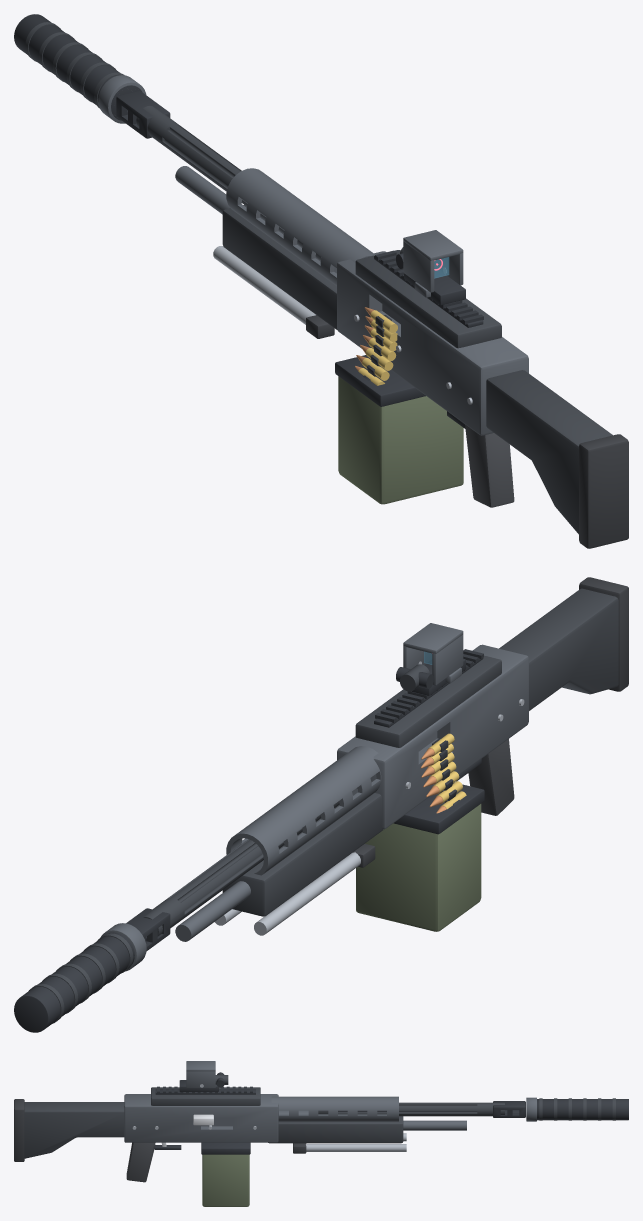
File: lmg_mk48.glb
The picture shows the model from 3 angles, top to bottom: view 1: azimuth 30°, elevation 25°; view 2: azimuth 150°, elevation 25°; view 3: azimuth 270°, elevation 25°; orthographic projection. The views are drawn at different scales.
Visible parts, largest first — view 1: AmmoBox, LMG_Receiver, ParaStock, HeatShield, StockButtpad, LowerHandguard, FeedTrayCover, SupBody, PistolGrip, MK48_Barrel, AmmoBoxLid, BipodLegL (+6 smaller); view 2: AmmoBox, LMG_Receiver, ParaStock, HeatShield, LowerHandguard, SupBody, FeedTrayCover, MK48_Barrel, PistolGrip, AmmoBoxLid, BipodLegL, StockButtpad (+5 smaller); view 3: LMG_Receiver, ParaStock, HeatShield, LowerHandguard, AmmoBox, MK48_Barrel, SupBody, FeedTrayCover, PistolGrip, BipodLegR, GasCylinder, StockButtpad (+8 smaller).
Boxes of the visible parts, x1,y1,x2,y2 form: AmmoBox: (338, 376, 463, 504); LMG_Receiver: (337, 251, 528, 435); ParaStock: (486, 370, 612, 534); HeatShield: (226, 168, 374, 285); StockButtpad: (579, 434, 628, 548); LowerHandguard: (222, 205, 337, 329); FeedTrayCover: (355, 250, 501, 348); SupBody: (14, 14, 141, 120); PistolGrip: (465, 424, 514, 507); MK48_Barrel: (136, 106, 321, 260); AmmoBoxLid: (335, 355, 425, 406); BipodLegL: (213, 246, 315, 324); AmmoBox: (356, 804, 481, 931); LMG_Receiver: (337, 644, 528, 829); ParaStock: (499, 588, 618, 710); HeatShield: (226, 746, 381, 875); LowerHandguard: (222, 788, 384, 916); SupBody: (14, 932, 134, 1032); FeedTrayCover: (355, 655, 501, 747); MK48_Barrel: (143, 801, 339, 936); PistolGrip: (468, 739, 514, 815); AmmoBoxLid: (393, 782, 484, 834); BipodLegL: (254, 852, 360, 935); StockButtpad: (579, 577, 628, 691); LMG_Receiver: (124, 1094, 278, 1142); ParaStock: (24, 1102, 124, 1158); HeatShield: (271, 1096, 398, 1121); LowerHandguard: (268, 1116, 403, 1143); AmmoBox: (202, 1154, 249, 1206); MK48_Barrel: (318, 1102, 504, 1116); SupBody: (537, 1099, 628, 1120); FeedTrayCover: (151, 1087, 260, 1105); PistolGrip: (126, 1142, 155, 1182); BipodLegR: (306, 1144, 406, 1151); GasCylinder: (403, 1120, 466, 1130); StockButtpad: (14, 1099, 24, 1161).
Bounding box in the file's own units: 0.126 × 0.3312 × 1.38.
